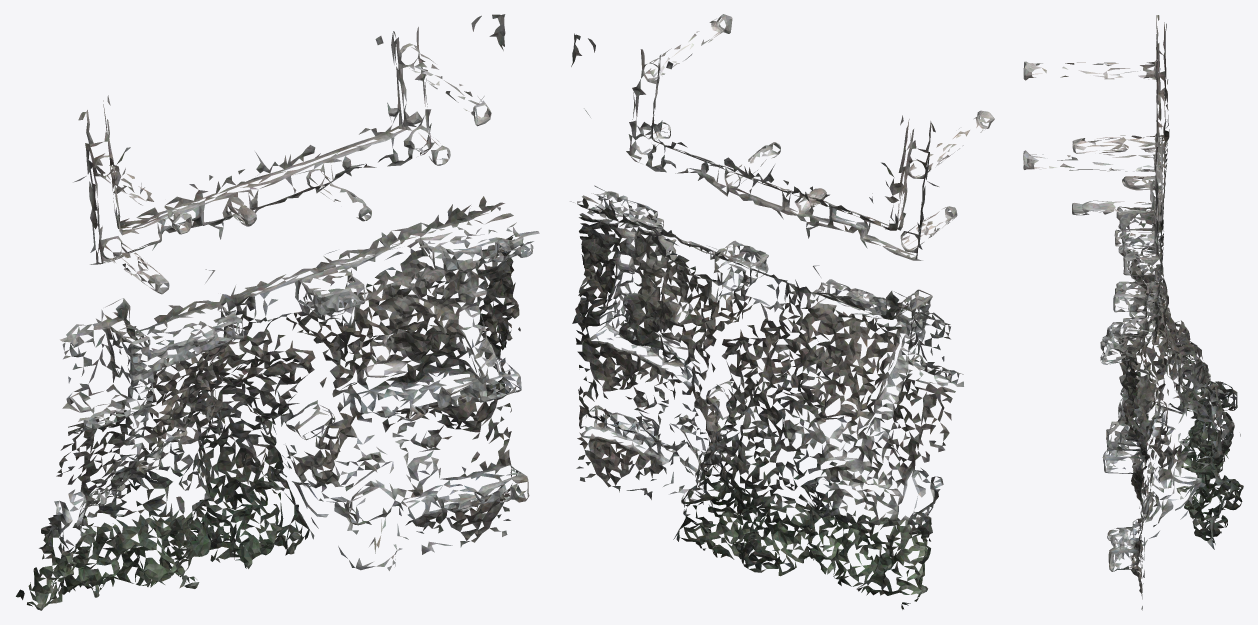
3 views of the same model, side by side, from view 1: azimuth 30°, elevation 25°; view 2: azimuth 150°, elevation 25°; view 3: azimuth 270°, elevation 25° (orthographic). The views are drawn at different scales.
Bounding box in the file's own units: 12.43 × 14.07 × 6.43.
1 material, 1 textured.
